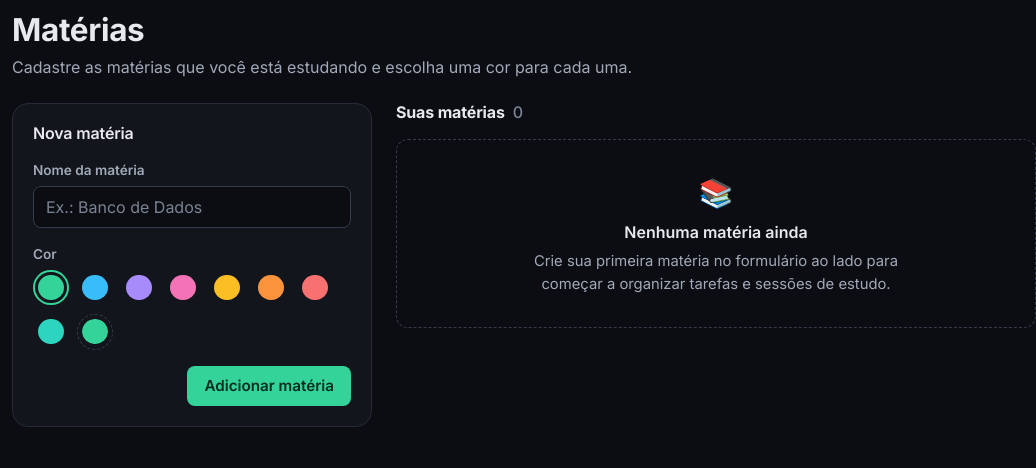
Scenario: SubjectsView (CRUD de matérias) › valida nome vazio
Click the button "Adicionar matéria": (269, 386) x1=187 y1=366 x2=351 y2=406
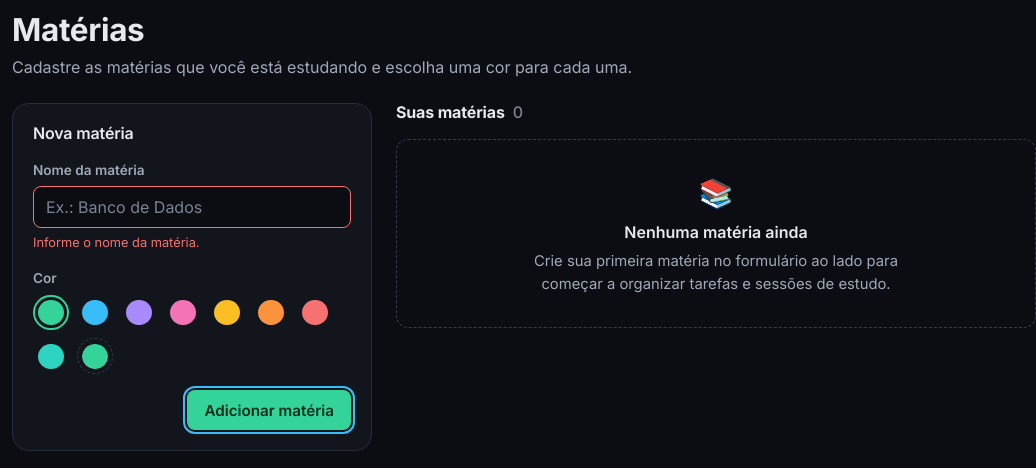
Expected: the message reads "Informe o nome da matéria.", x1=33 y1=235 x2=200 y2=250
